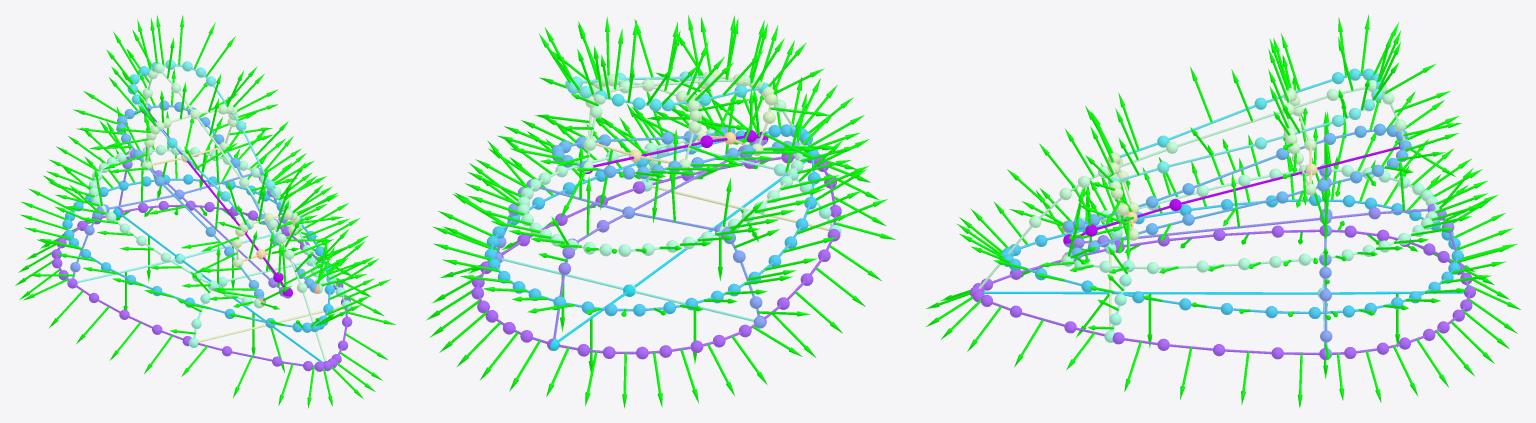
Rendered from t2f_iron.gltf.
The picture shows the model from 3 angles, left to right: view 1: azimuth 30°, elevation 25°; view 2: azimuth 150°, elevation 25°; view 3: azimuth 270°, elevation 25°; orthographic projection. The views are drawn at different scales.
Size of the model in its own units: 0.6616 by 0.5649 by 0.9658.
